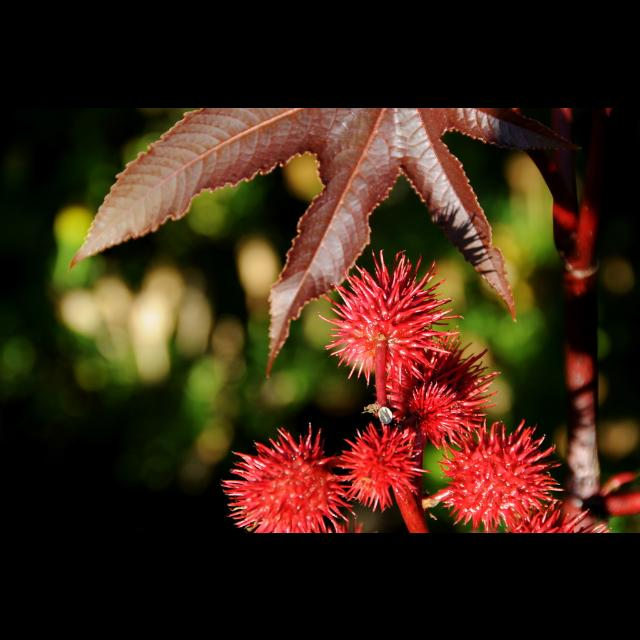Flower: (435, 418, 563, 524)
